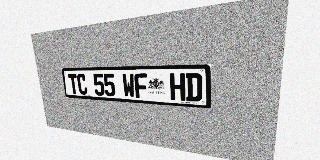5: (103, 74, 116, 97), (93, 74, 105, 96)
C: (76, 74, 88, 95)
D: (186, 73, 202, 102)
F: (134, 73, 148, 99)
H: (170, 73, 185, 101)
T: (68, 74, 79, 94)
W: (122, 73, 135, 98)
